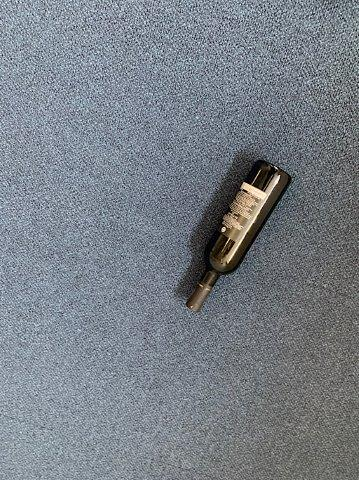botolkaca: (185, 159, 293, 312)
